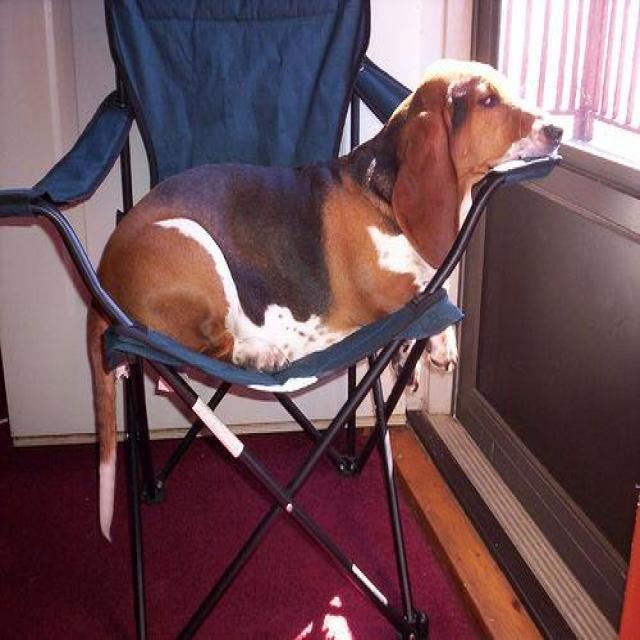basset: (87, 62, 563, 540)
